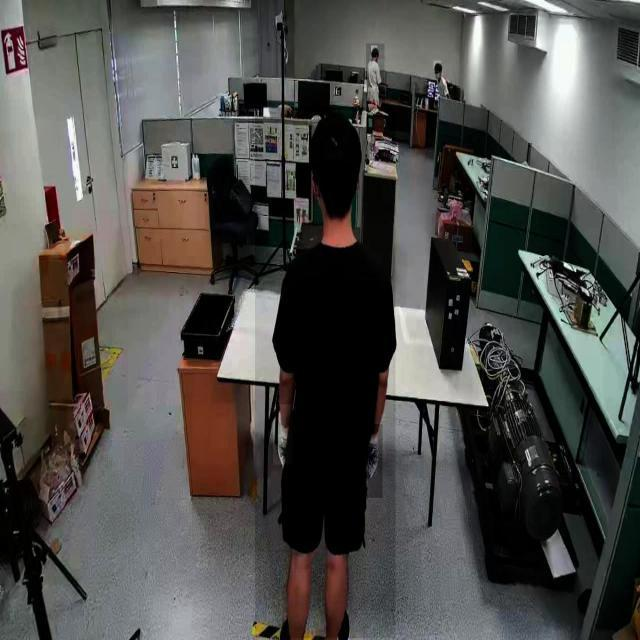gloves: (362, 424, 383, 499), (273, 404, 293, 466)
